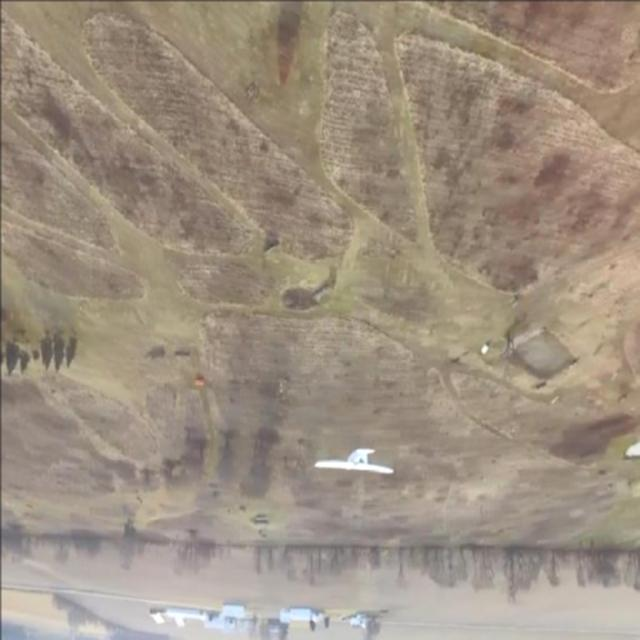plane: (312, 446, 394, 474)
